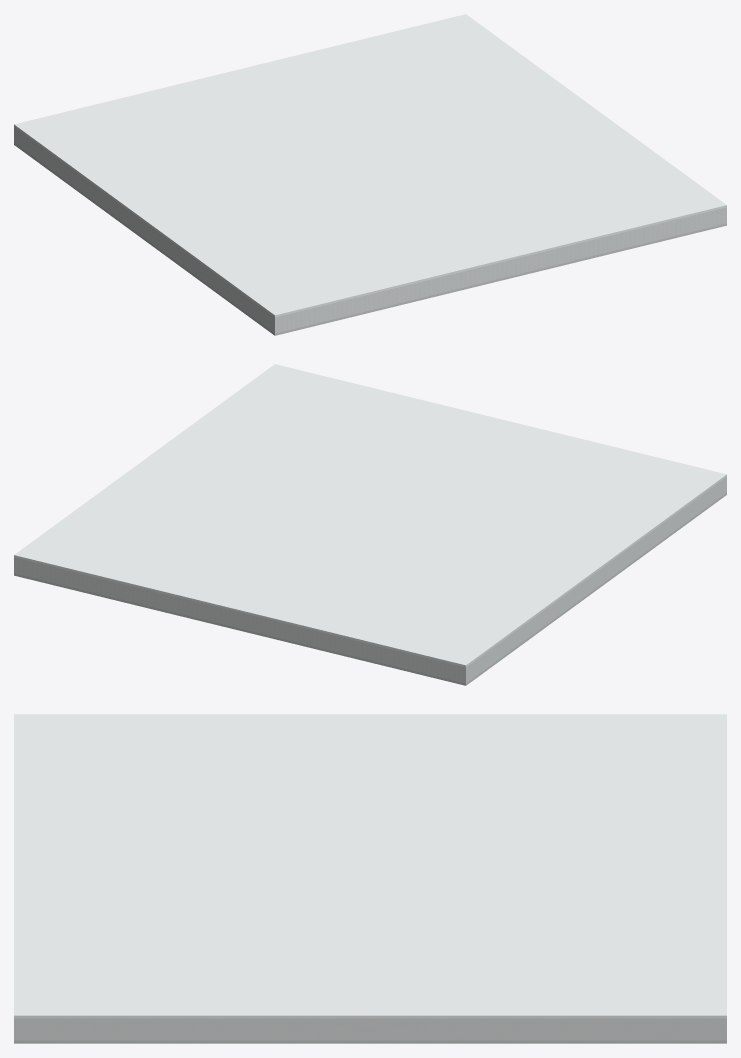
The model's file is level37_shell.obj.
3 renders of one model, top to bottom at view 1: azimuth 30°, elevation 25°; view 2: azimuth 150°, elevation 25°; view 3: azimuth 270°, elevation 25°, orthographic. The views are drawn at different scales.
Bounding box in the file's own units: 106 × 4.6 × 106.
Materials: 4 (3 with a texture image).
